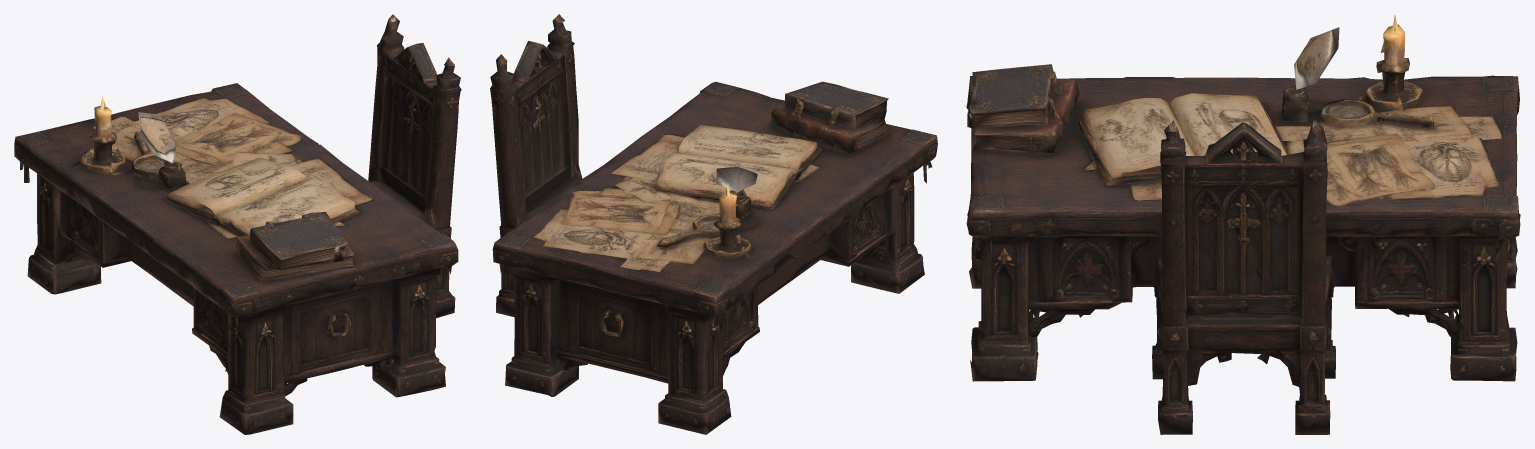
The model's file is raw_desk.glb.
The picture shows the model from 3 angles, left to right: view 1: azimuth 30°, elevation 25°; view 2: azimuth 150°, elevation 25°; view 3: azimuth 270°, elevation 25°; orthographic projection. The views are drawn at different scales.
Parts seen in each view (by area): view 1: tripo_node_72152df6-96b4-47c9-be45-0aedd65f45dd; view 2: tripo_node_72152df6-96b4-47c9-be45-0aedd65f45dd; view 3: tripo_node_72152df6-96b4-47c9-be45-0aedd65f45dd.
Boxes of the visible parts, x1,y1,x2,y2 form: tripo_node_72152df6-96b4-47c9-be45-0aedd65f45dd: [14, 14, 461, 434]; tripo_node_72152df6-96b4-47c9-be45-0aedd65f45dd: [490, 14, 937, 434]; tripo_node_72152df6-96b4-47c9-be45-0aedd65f45dd: [966, 15, 1520, 434].
Bounding box in the file's own units: 0.7936 × 0.6295 × 1.
Materials: 1 (1 with a texture image).
